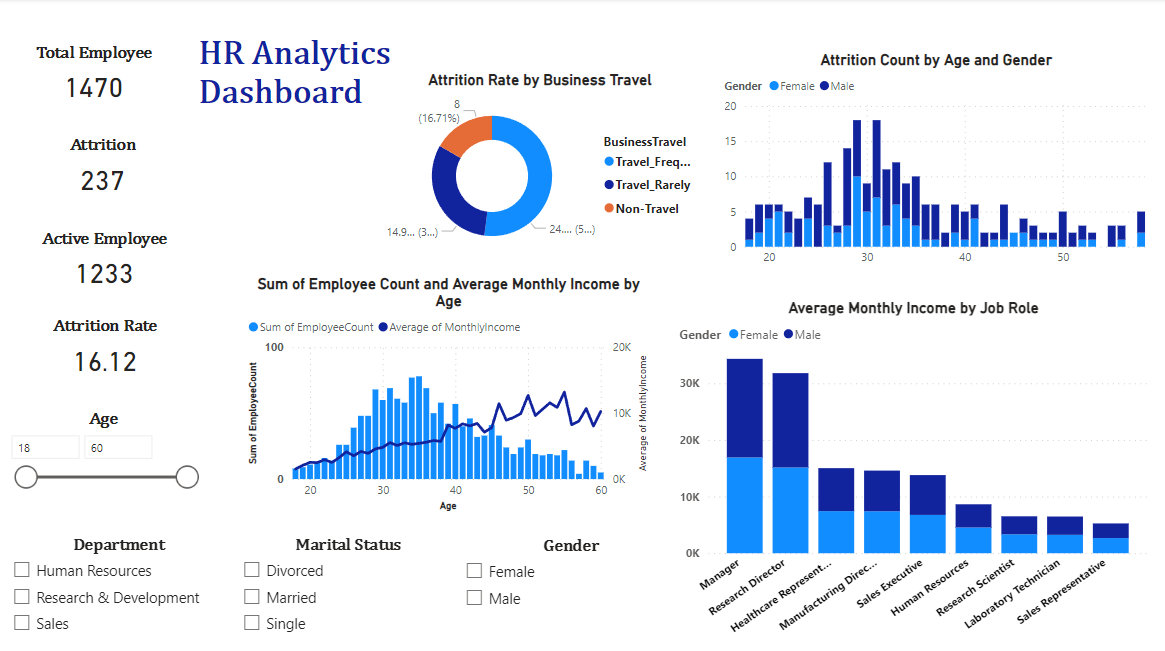

The page's visual inventory and layout, read from the dashboard file:
{"tool":"powerbi","page":{"name":"Page 2","canvas":[1280,720],"ordinal":1},"visuals":[{"type":"card","title":"Total Employee","fields":{"Values":["Sum(hr_employee_attrition.EmployeeCount)"]},"box":[9.6,49.4,186.6,75.5],"z":0},{"type":"card","title":"Attrition","fields":{"Values":["hr_employee_attrition.Attrition_Count"]},"box":[12.3,150.9,200.3,75.5],"z":1000},{"type":"card","title":"Active Employee","fields":{"Values":["hr_employee_attrition.Active Employee"]},"box":[6.9,253.9,215.4,75.5],"z":2000},{"type":"card","title":"Attrition Rate","fields":{"Values":["hr_employee_attrition.Attrition rate"]},"box":[2.7,349.9,225,75.5],"z":3000},{"type":"slicer","title":"Age","fields":{"Values":["hr_employee_attrition.Age"]},"box":[0,451.5,226.4,116.6],"z":4000},{"type":"slicer","title":"Department","fields":{"Values":["hr_employee_attrition.Department"]},"box":[2.7,590.1,253.9,119.4],"z":5000},{"type":"slicer","title":"Marital Status","fields":{"Values":["hr_employee_attrition.MaritalStatus"]},"box":[255.2,590.1,253.9,119.4],"z":6000},{"type":"slicer","title":"Gender","fields":{"Values":["hr_employee_attrition.Gender"]},"box":[499.5,591.4,253.9,119.4],"z":7000},{"type":"donutChart","title":"Attrition Rate by Business Travel","fields":{"Category":["hr_employee_attrition.BusinessTravel"],"Y":["hr_employee_attrition.Attrition rate"]},"box":[413,79.6,359.5,212.7],"z":8000},{"type":"columnChart","title":"Average Monthly Income by Job Role","fields":{"Category":["hr_employee_attrition.JobRole"],"Y":["Avg(hr_employee_attrition.MonthlyIncome)"],"Series":["hr_employee_attrition.Gender"]},"box":[741,329.3,524.2,380.1],"z":9000},{"type":"columnChart","title":"Attrition Count by Age and Gender","fields":{"Y":["hr_employee_attrition.Attrition_Count"],"Category":["hr_employee_attrition.Age"],"Series":["hr_employee_attrition.Gender"]},"box":[790.4,57.6,474.8,245.6],"z":10000},{"type":"lineStackedColumnComboChart","title":"Sum of Employee Count and Average Monthly Income by Age","fields":{"Y":["Sum(hr_employee_attrition.EmployeeCount)"],"Y2":["Avg(hr_employee_attrition.MonthlyIncome)"],"Category":["hr_employee_attrition.Age"]},"box":[267.6,303.3,450.1,264.8],"z":11000},{"type":"textbox","box":[212.7,35.7,237.4,144.1],"z":12000}]}

Visuals, with their boxes in screenshot pixels (x1, y1, x2, y2), scaled from the page's 1280x720 canvas onto the 1165x651 screenshot:
"Total Employee" card: region(9, 45, 179, 113)
"Attrition" card: region(11, 136, 193, 205)
"Active Employee" card: region(6, 230, 202, 298)
"Attrition Rate" card: region(2, 316, 207, 385)
"Age" slicer: region(0, 408, 206, 514)
"Department" slicer: region(2, 534, 234, 642)
"Marital Status" slicer: region(232, 534, 463, 642)
"Gender" slicer: region(455, 535, 686, 643)
"Attrition Rate by Business Travel" donutChart: region(376, 72, 703, 264)
"Average Monthly Income by Job Role" columnChart: region(674, 298, 1152, 641)
"Attrition Count by Age and Gender" columnChart: region(719, 52, 1152, 274)
"Sum of Employee Count and Average Monthly Income by Age" lineStackedColumnComboChart: region(244, 274, 653, 514)
textbox: region(194, 32, 410, 163)
